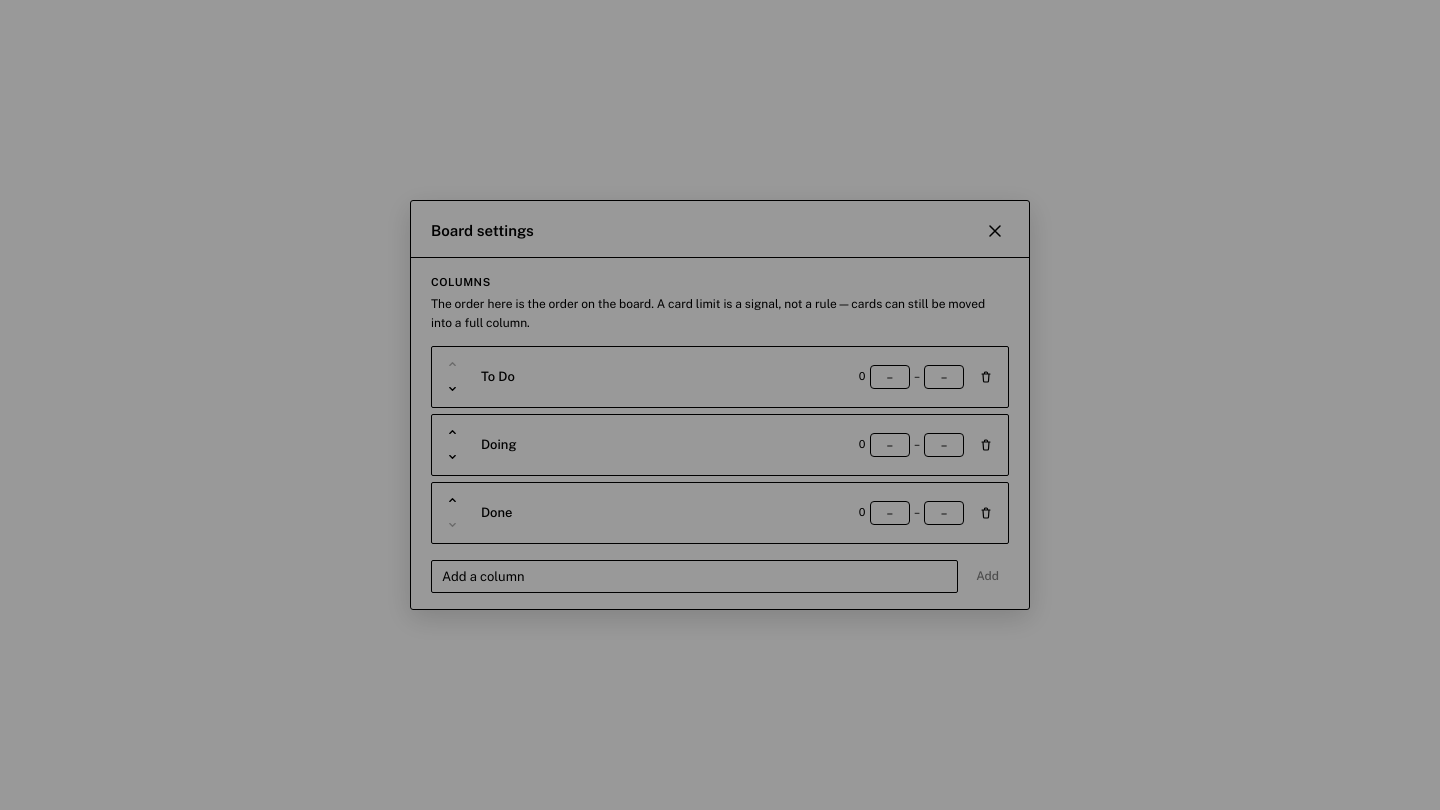
Test case: BoardSettingsDialog — adding and removing › says why when something is refused
Type "Review" into the field named "New column name" at (695, 576), box [431,560,958,593]
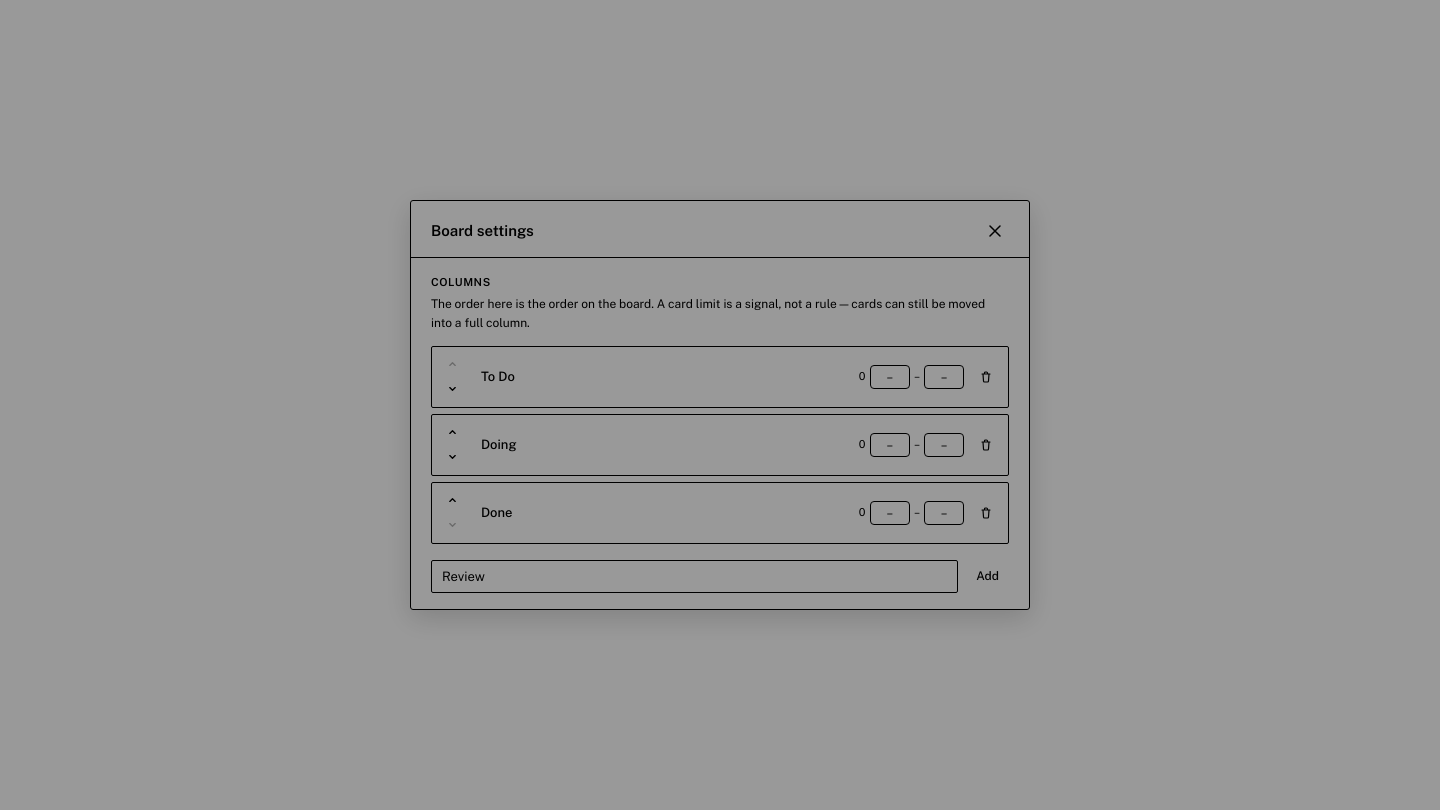
Click the button "Add" at (988, 576), box [966,562,1009,590]
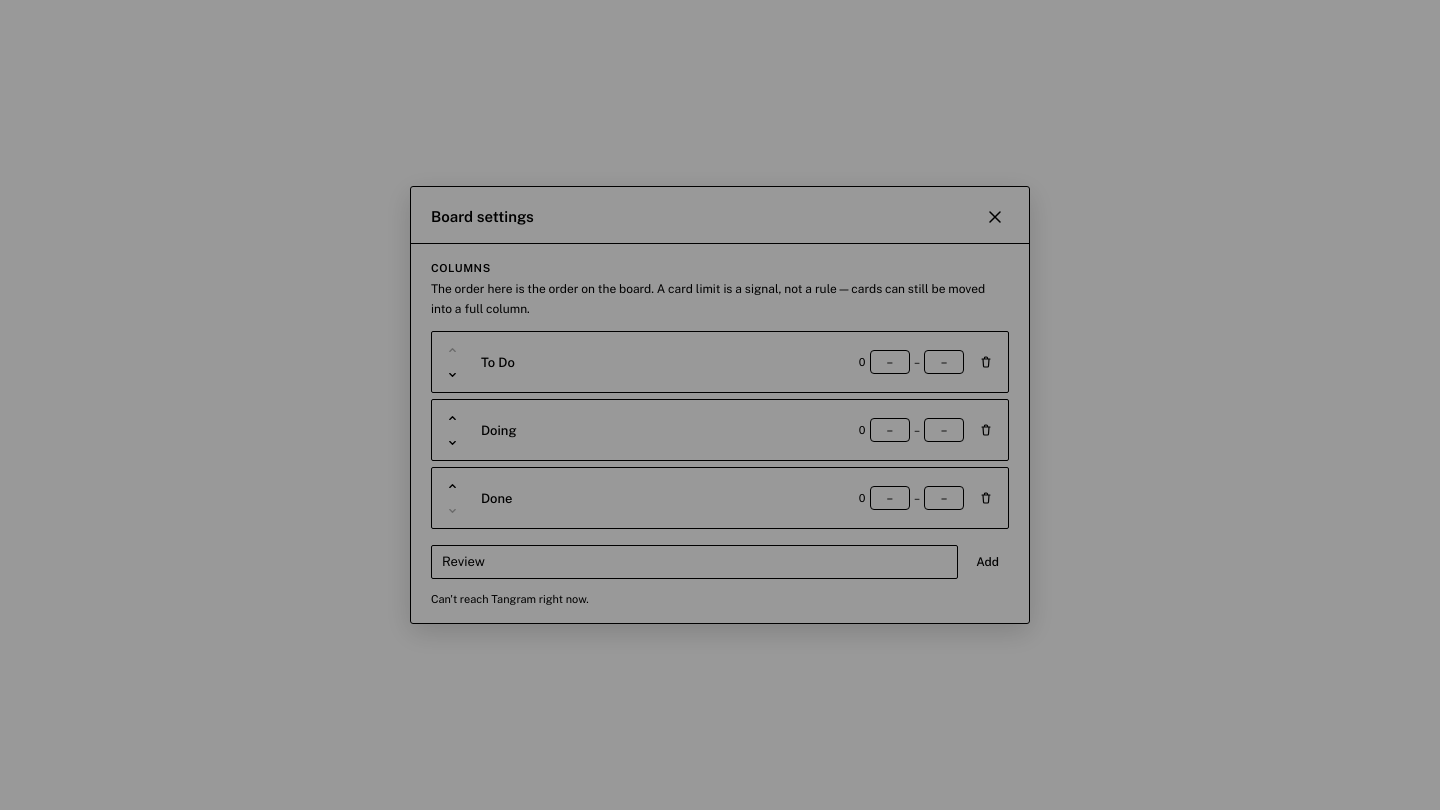
Check: the message shows "Can't reach Tangram", box [431,593,589,605]
